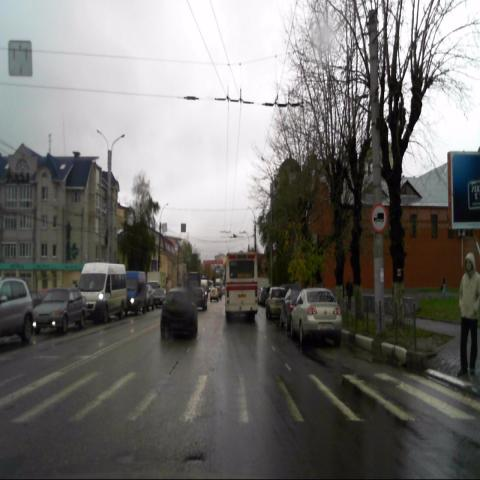3_4_1: (370, 203, 388, 233)
